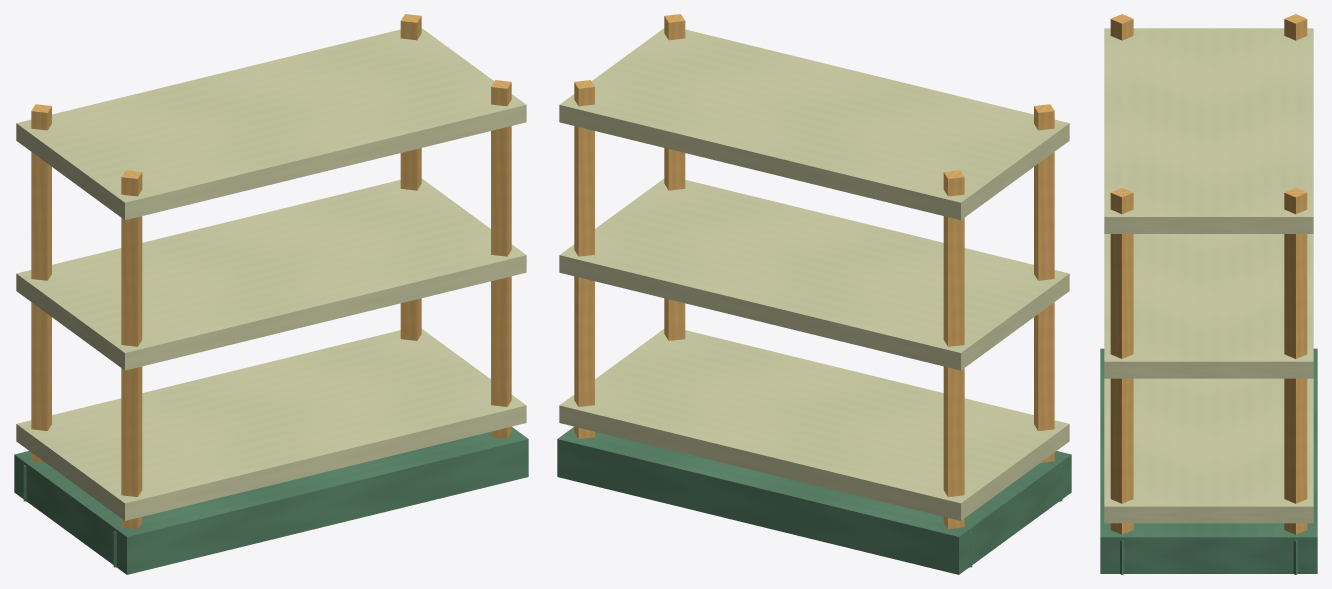
The model's file is atlas100-s003-a06.lod2.glb.
3 renders of one model, left to right at view 1: azimuth 30°, elevation 25°; view 2: azimuth 150°, elevation 25°; view 3: azimuth 270°, elevation 25°, orthographic. The views are drawn at different scales.
Visible parts, largest first — view 1: atlas100-s003-a06:part-013, atlas100-s003-a06:part-012, atlas100-s003-a06:part-011, atlas100-s003-a06:part-000, atlas100-s003-a06:part-005, atlas100-s003-a06:part-009, atlas100-s003-a06:part-003, atlas100-s003-a06:part-007; view 2: atlas100-s003-a06:part-013, atlas100-s003-a06:part-012, atlas100-s003-a06:part-011, atlas100-s003-a06:part-000, atlas100-s003-a06:part-003, atlas100-s003-a06:part-007, atlas100-s003-a06:part-005, atlas100-s003-a06:part-009; view 3: atlas100-s003-a06:part-013, atlas100-s003-a06:part-011, atlas100-s003-a06:part-012, atlas100-s003-a06:part-000, atlas100-s003-a06:part-007, atlas100-s003-a06:part-009, atlas100-s003-a06:part-003, atlas100-s003-a06:part-005.
Boxes of the visible parts, bbox=[...] form: atlas100-s003-a06:part-013: bbox=[16, 28, 526, 220]; atlas100-s003-a06:part-012: bbox=[16, 178, 526, 370]; atlas100-s003-a06:part-011: bbox=[16, 329, 526, 520]; atlas100-s003-a06:part-000: bbox=[14, 427, 528, 574]; atlas100-s003-a06:part-005: bbox=[121, 170, 142, 529]; atlas100-s003-a06:part-009: bbox=[491, 80, 511, 438]; atlas100-s003-a06:part-003: bbox=[31, 104, 51, 462]; atlas100-s003-a06:part-007: bbox=[400, 14, 421, 340]; atlas100-s003-a06:part-013: bbox=[559, 28, 1069, 220]; atlas100-s003-a06:part-012: bbox=[559, 178, 1069, 370]; atlas100-s003-a06:part-011: bbox=[559, 329, 1069, 520]; atlas100-s003-a06:part-000: bbox=[557, 427, 1071, 574]; atlas100-s003-a06:part-003: bbox=[943, 170, 964, 529]; atlas100-s003-a06:part-007: bbox=[574, 80, 594, 438]; atlas100-s003-a06:part-005: bbox=[1034, 104, 1054, 462]; atlas100-s003-a06:part-009: bbox=[664, 14, 685, 340]; atlas100-s003-a06:part-013: bbox=[1104, 28, 1313, 233]; atlas100-s003-a06:part-011: bbox=[1104, 378, 1313, 523]; atlas100-s003-a06:part-012: bbox=[1104, 234, 1313, 378]; atlas100-s003-a06:part-000: bbox=[1100, 348, 1317, 573]; atlas100-s003-a06:part-007: bbox=[1284, 187, 1307, 534]; atlas100-s003-a06:part-009: bbox=[1110, 187, 1133, 534]; atlas100-s003-a06:part-003: bbox=[1284, 14, 1307, 40]; atlas100-s003-a06:part-005: bbox=[1110, 14, 1133, 40].
Size of the model in its own units: 2.91 by 2.66 by 1.4.
Materials: 3 (3 with a texture image).
